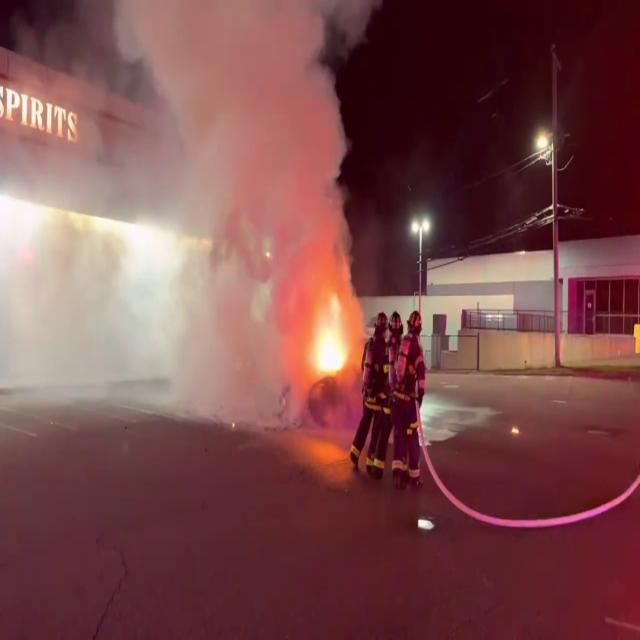Fire: (300, 278, 356, 390)
Smoke: (0, 0, 366, 339)
